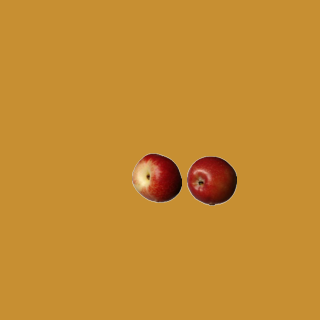Apple Braeburn: (186, 155, 236, 205)
Nectarine: (131, 152, 181, 202)
